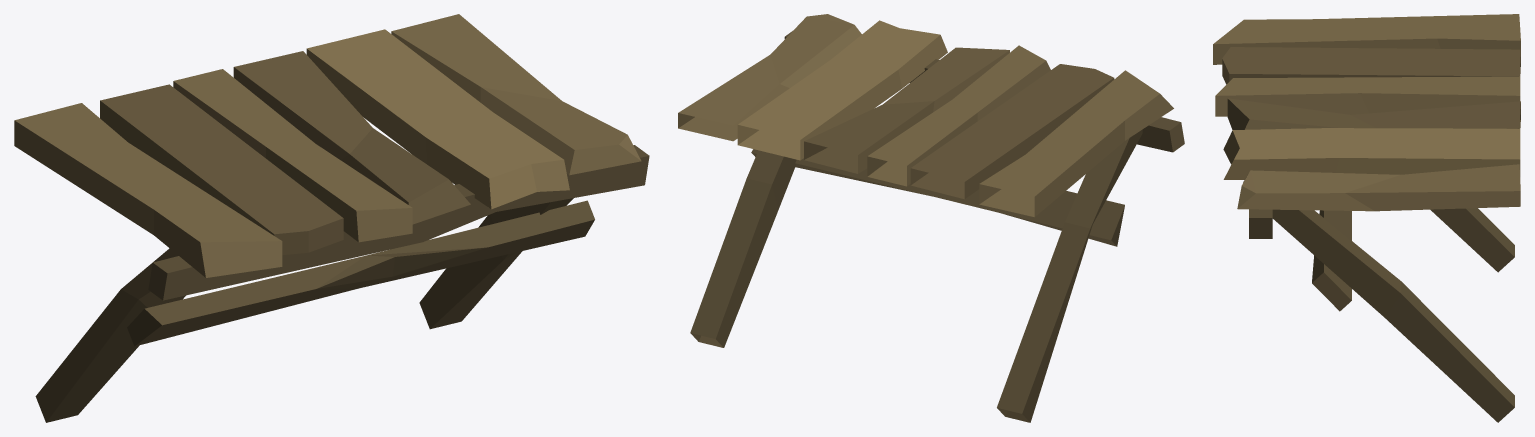
Rendered from WindowTop.fbx.
3 renders of one model, left to right at view 1: azimuth 30°, elevation 25°; view 2: azimuth 150°, elevation 25°; view 3: azimuth 270°, elevation 25°, orthographic. The views are drawn at different scales.
Visible parts, largest first — view 1: WindowTop; view 2: WindowTop; view 3: WindowTop.
Boxes of the visible parts, left/top/right/bottom form: WindowTop: left=14, top=14, right=649, bottom=422; WindowTop: left=678, top=14, right=1184, bottom=422; WindowTop: left=1213, top=14, right=1520, bottom=422.
Bounding box in the file's own units: 234 × 137 × 160.
